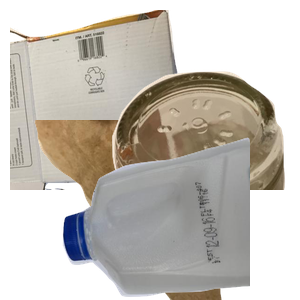cardboard: (10, 10, 191, 190)
glass: (89, 69, 300, 249)
plastic: (60, 135, 300, 300)
trash: (32, 120, 248, 300)
